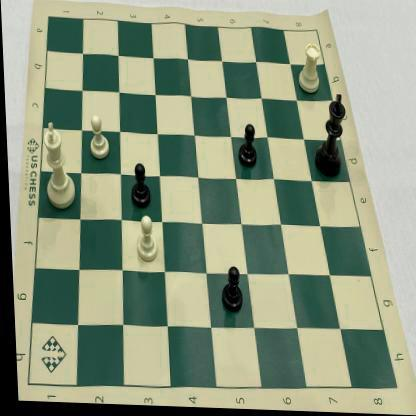black-king: (310, 89, 350, 180)
black-pawn: (216, 260, 244, 317), (126, 158, 152, 213), (234, 119, 258, 172)
white-king: (38, 122, 76, 216)
white-pawn: (129, 215, 159, 268), (84, 113, 110, 164)
white-rook: (295, 40, 325, 98)
